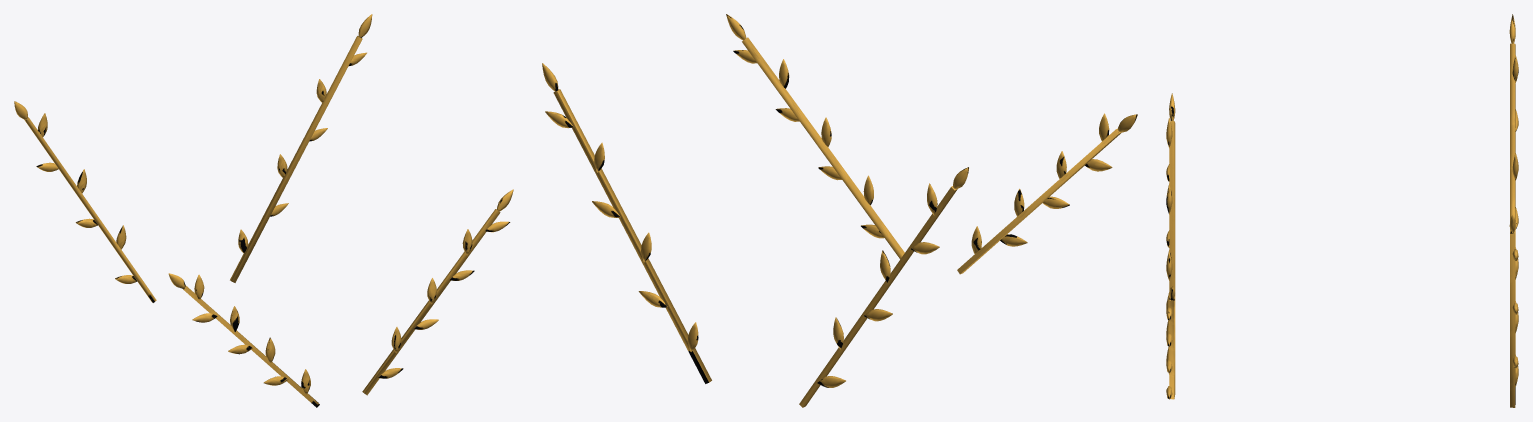
Rendered from Atalanta_Coraza_Olivo.fbx.
The picture shows the model from 3 angles, left to right: view 1: azimuth 30°, elevation 25°; view 2: azimuth 150°, elevation 25°; view 3: azimuth 270°, elevation 25°; orthographic projection. The views are drawn at different scales.
Visible parts, largest first — view 1: Atalanta_Coraza_Olivo; view 2: Atalanta_Coraza_Olivo; view 3: Atalanta_Coraza_Olivo.
Part boxes in pixels (<box>): Atalanta_Coraza_Olivo: <box>14,14,513,407</box>; Atalanta_Coraza_Olivo: <box>542,14,1137,407</box>; Atalanta_Coraza_Olivo: <box>1166,14,1518,407</box>.
Size of the model in its own units: 1.77 by 1.11 by 1.31.
